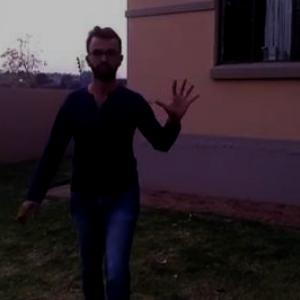follow_hand: (154, 73, 204, 121)
